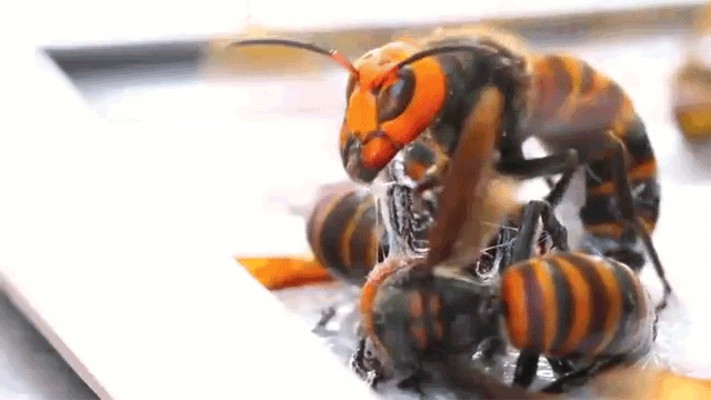asian_giant_hornet: (222, 21, 665, 250), (346, 248, 666, 387), (303, 177, 530, 283)
